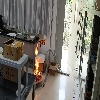fire: (34, 41, 40, 81)
